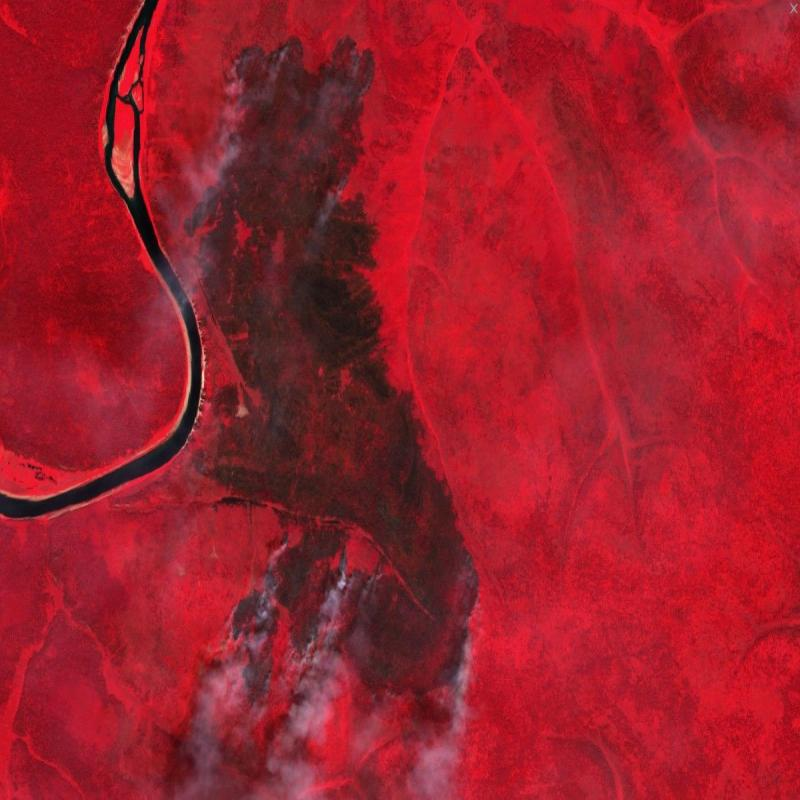fire: (174, 12, 492, 728)
